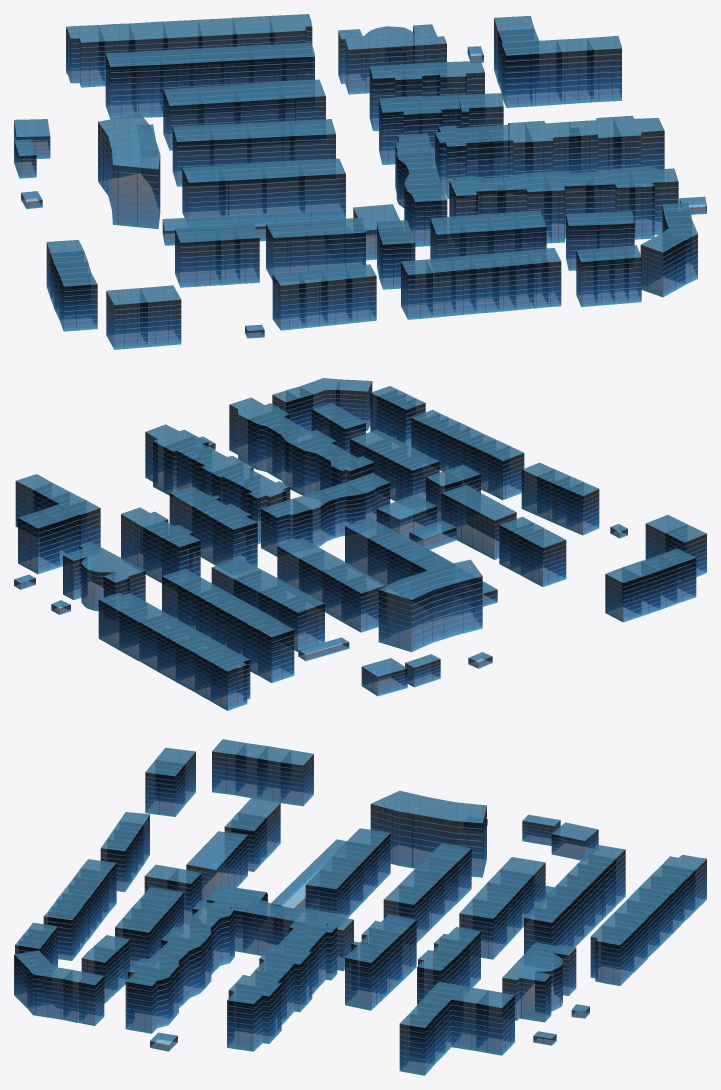
Rendered from build.glb.
3 views of the same model, one above another, from view 1: azimuth 30°, elevation 25°; view 2: azimuth 150°, elevation 25°; view 3: azimuth 270°, elevation 25° (orthographic). The views are drawn at different scales.
Visible parts, largest first — view 1: wall_6_9, top6_9, wall_0_3, wall_3_6, top0_3, top3_6; view 2: wall_6_9, top6_9, wall_3_6, wall_0_3, top3_6, top0_3; view 3: wall_6_9, top6_9, wall_3_6, wall_0_3, top0_3, top3_6.
Boxes of the visible parts, x1,y1,x2,y2 form: wall_6_9: (46,14,697,349); top6_9: (47,14,697,304); wall_0_3: (21,47,706,338); wall_3_6: (14,119,399,260); top0_3: (21,46,706,330); top3_6: (14,119,400,230); wall_6_9: (15,378,706,710); top6_9: (16,378,706,671); wall_3_6: (361,495,440,696); wall_0_3: (14,437,627,668); top3_6: (362,495,439,676); top0_3: (14,436,627,661); wall_6_9: (14,740,706,1075); top6_9: (14,739,706,1027); wall_3_6: (207,815,598,902); wall_0_3: (150,819,589,1051); top0_3: (150,839,589,1044); top3_6: (207,814,597,900).
Size of the model in its own units: 280 by 24.11 by 277.
6 materials, 6 textured.
